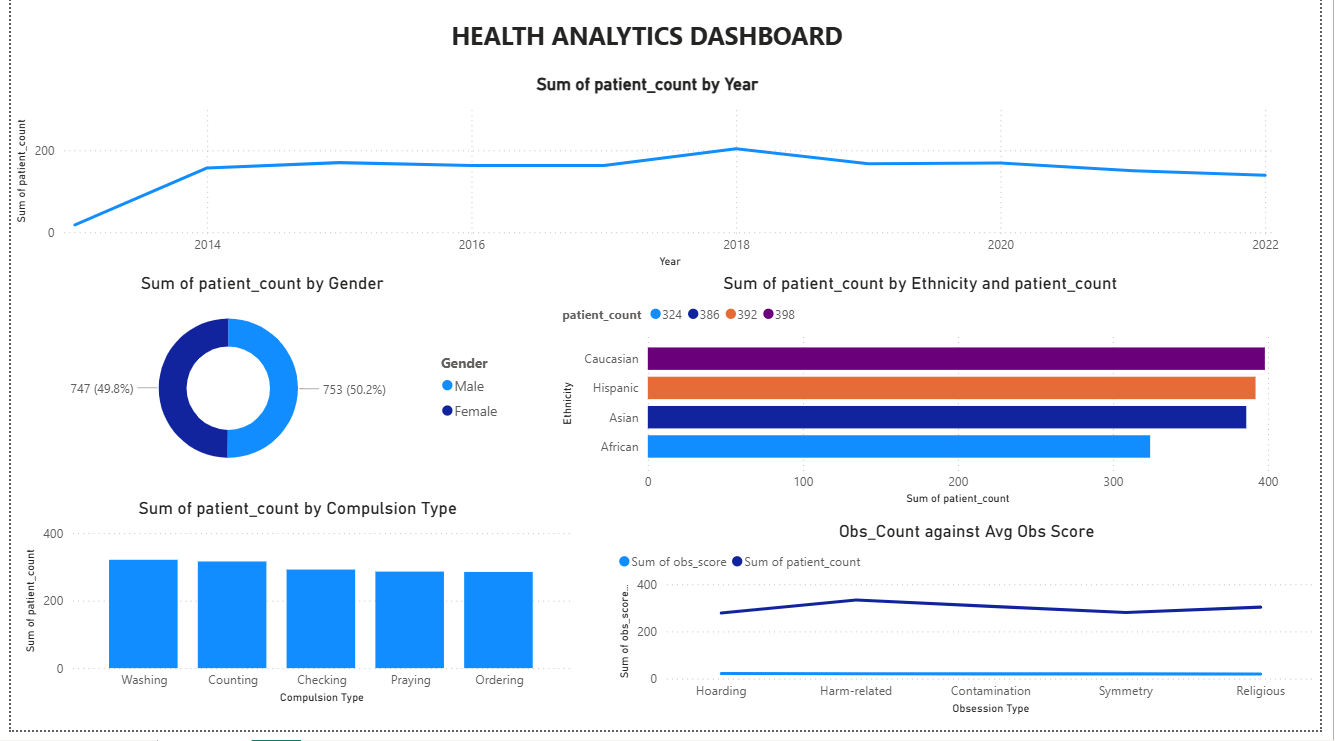

Layout of this report page (visuals, bound fields, positions):
{"tool":"powerbi","page":{"name":"Page 1","canvas":[1280,720],"ordinal":0},"visuals":[{"type":"textbox","box":[0,19.6,1244.1,44.5],"z":0},{"type":"lineChart","fields":{"Category":["Diagnosis MoM.month.Variation.Date Hierarchy.Year","Diagnosis MoM.month.Variation.Date Hierarchy.Quarter","Diagnosis MoM.month.Variation.Date Hierarchy.Month","Diagnosis MoM.month.Variation.Date Hierarchy.Day"],"Y":["Sum(Diagnosis MoM.patient_count)"]},"box":[0,77.9,1245.1,194.8],"z":1000},{"type":"donutChart","fields":{"Category":["gender.Gender"],"Y":["Sum(gender.patient_count)"]},"box":[0,272.7,491.6,205.4],"z":1001},{"type":"barChart","fields":{"Category":["ethnicity.Ethnicity"],"Y":["Sum(ethnicity.patient_count)"],"Series":["ethnicity.patient_count"]},"box":[534.4,272.7,710.5,232.3],"z":1002},{"type":"columnChart","fields":{"Category":["compulsion_type.Compulsion Type"],"Y":["Sum(compulsion_type.patient_count)"]},"box":[8.6,492.8,544.2,206.7],"z":1003},{"type":"lineChart","title":"Obs_Count against Avg Obs Score","fields":{"Category":["obs_type.Obsession Type"],"Y":["Sum(obs_type.obs_score)","Sum(obs_type.patient_count)"]},"box":[588.8,514.8,691.2,194.8],"z":1004}]}

Visuals, with their boxes in screenshot pixels (x1, y1, x2, y2), scaled from the page's 1280x720 canvas onto the 1335x741 screenshot:
textbox: {"left": 0, "top": 20, "right": 1298, "bottom": 66}
lineChart - Diagnosis MoM.month.Variation.Date Hierarchy.Year x Diagnosis MoM.month.Variation.Date Hierarchy.Quarter: {"left": 0, "top": 80, "right": 1299, "bottom": 281}
donutChart - gender.Gender x Sum(gender.patient_count): {"left": 0, "top": 281, "right": 513, "bottom": 492}
barChart - ethnicity.Ethnicity x Sum(ethnicity.patient_count): {"left": 557, "top": 281, "right": 1298, "bottom": 520}
columnChart - compulsion_type.Compulsion Type x Sum(compulsion_type.patient_count): {"left": 9, "top": 507, "right": 577, "bottom": 720}
"Obs_Count against Avg Obs Score" lineChart: {"left": 614, "top": 530, "right": 1334, "bottom": 730}
